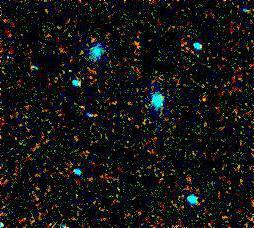star: (174, 166, 204, 196)
